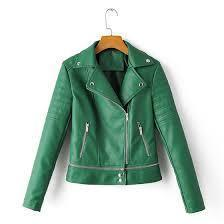jacket: (30, 42, 204, 215)
